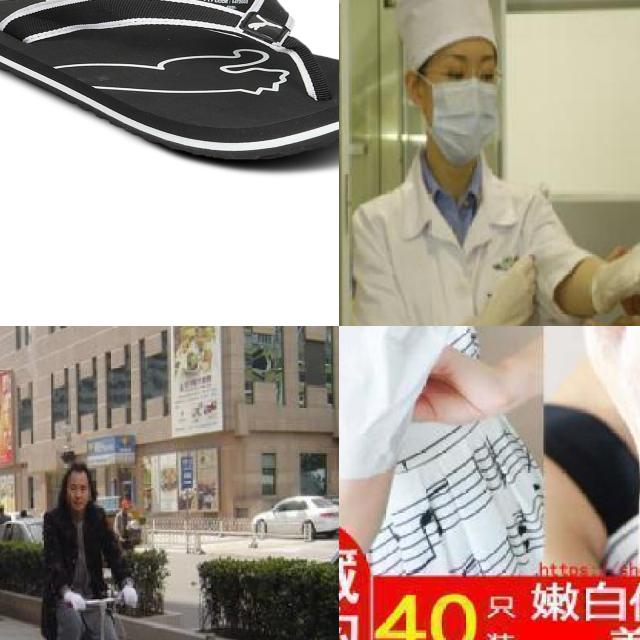Sandals: (0, 0, 339, 162)
face_mask: (405, 39, 509, 167)
face_nomask: (66, 478, 92, 513)
glasses: (435, 55, 504, 93)
hand_glove: (339, 326, 532, 456), (485, 256, 539, 326), (606, 213, 640, 302), (119, 584, 139, 608), (62, 588, 86, 608)
hand_noglove: (549, 326, 640, 535), (418, 341, 503, 432), (606, 245, 640, 314), (118, 535, 122, 541)
head_nohelmet: (58, 460, 93, 480)
person: (339, 0, 640, 326), (33, 467, 139, 640)
